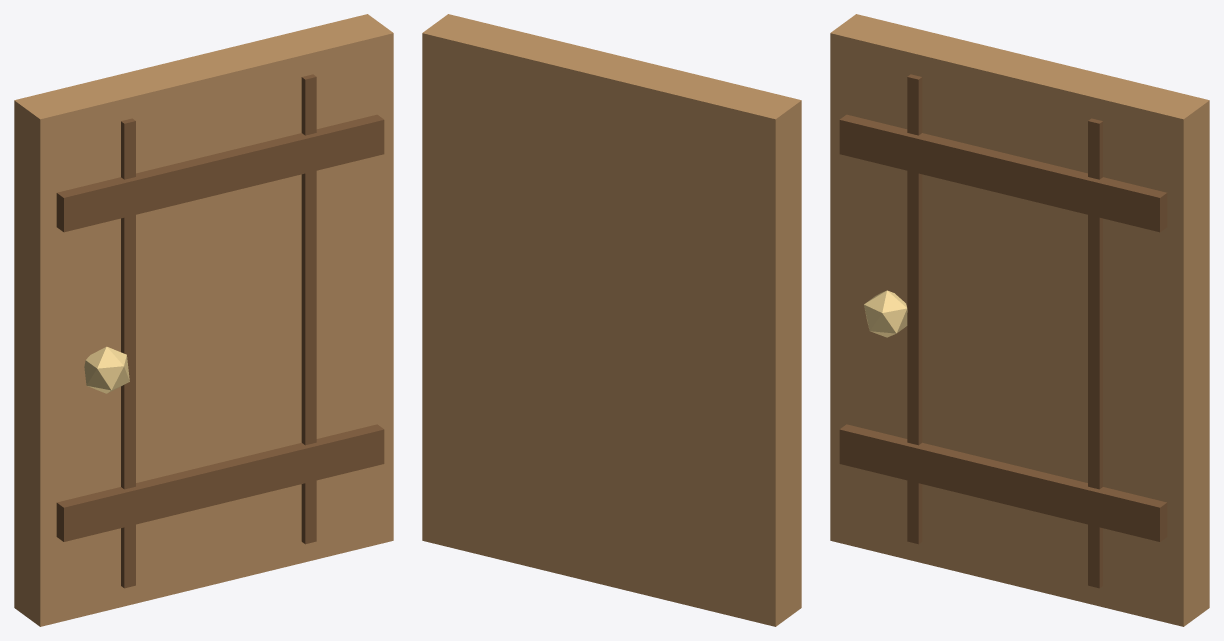
Rendered from door.glb.
3 views of the same model, side by side, from view 1: azimuth 30°, elevation 25°; view 2: azimuth 150°, elevation 25°; view 3: azimuth 330°, elevation 25° (orthographic).
Parts seen in each view (by area): view 1: DoorPanel, DoorBottomRail, DoorTopRail, DoorPlankLine.001, DoorPlankLine, DoorKnob; view 2: DoorPanel; view 3: DoorPanel, DoorBottomRail, DoorTopRail, DoorPlankLine, DoorPlankLine.001, DoorKnob.
Boxes of the visible parts, left/top/right/bottom form: DoorPanel: left=14, top=14, right=393, bottom=626; DoorBottomRail: left=56, top=424, right=384, bottom=541; DoorTopRail: left=56, top=114, right=384, bottom=232; DoorPlankLine.001: left=301, top=74, right=316, bottom=544; DoorPlankLine: left=121, top=118, right=135, bottom=588; DoorKnob: left=84, top=346, right=129, bottom=393; DoorPanel: left=422, top=14, right=801, bottom=626; DoorPanel: left=830, top=14, right=1209, bottom=626; DoorBottomRail: left=839, top=424, right=1167, bottom=541; DoorTopRail: left=839, top=114, right=1167, bottom=232; DoorPlankLine: left=907, top=74, right=922, bottom=544; DoorPlankLine.001: left=1088, top=118, right=1102, bottom=588; DoorKnob: left=864, top=290, right=907, bottom=337.
Size of the model in its own units: 0.86 by 1.18 by 0.1768.
